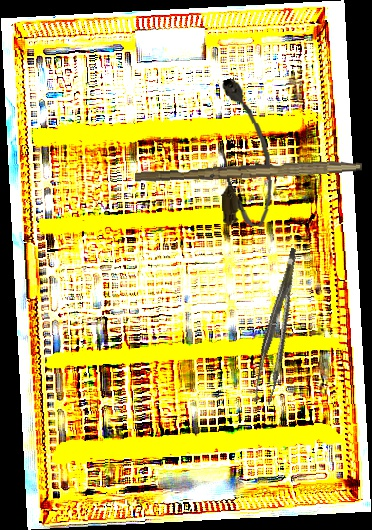Cannula: (213, 76, 275, 229)
Scalpel Handle: (134, 155, 363, 187)
Tissue Forceps: (245, 247, 316, 406)
